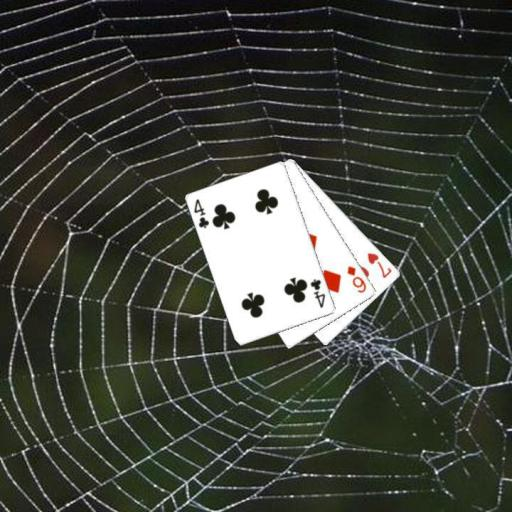card-corner: (364, 250, 394, 280), (344, 263, 368, 295), (191, 196, 211, 230), (307, 276, 327, 309)
